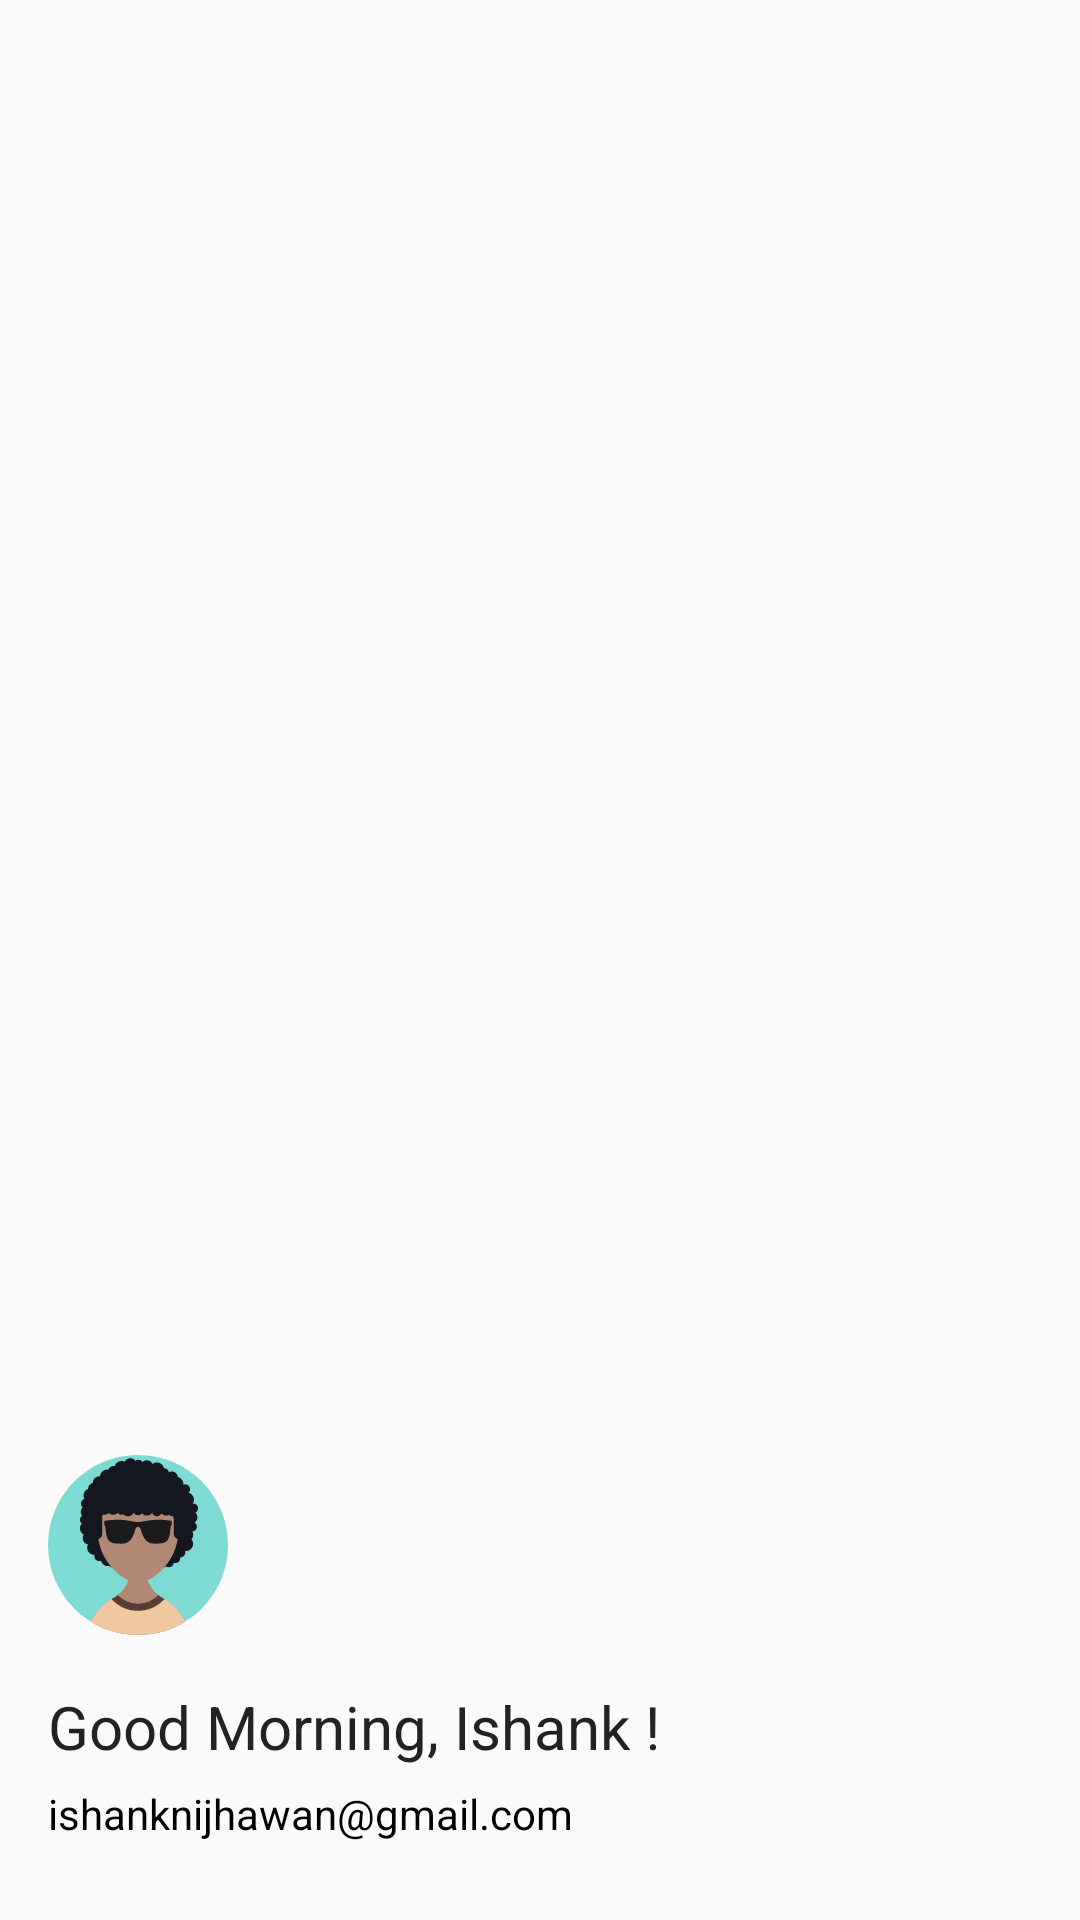

Icons on this 1080*1920 Android screen, each with the point to tap as (x=x, y=y):
man: (x=138, y=1545)
